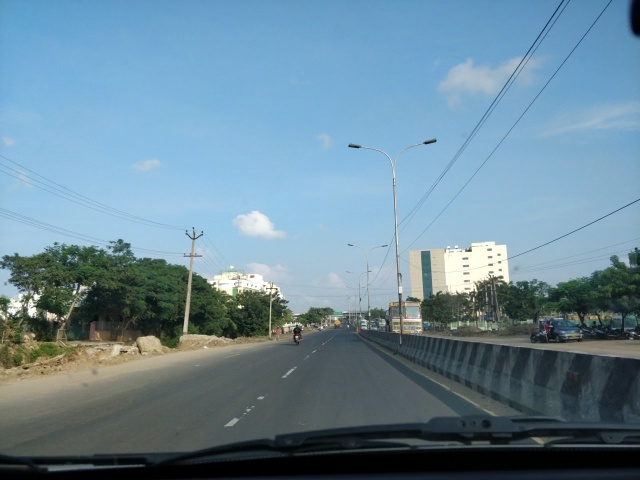car: (540, 318, 583, 341)
motorbike: (530, 329, 548, 345), (292, 324, 303, 346)
person: (273, 324, 282, 341), (537, 321, 544, 335), (545, 322, 550, 339)
truck: (385, 302, 425, 335), (334, 319, 343, 330)
